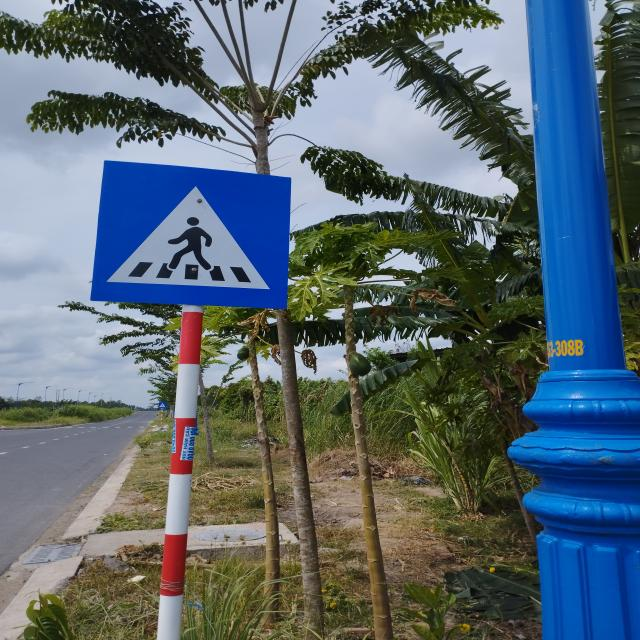Giao_Nhau_Duong_Uu_Tien: (89, 161, 292, 307)
